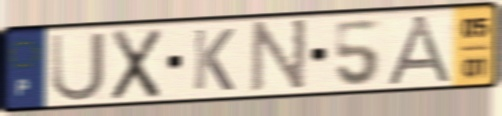5: (332, 16, 383, 88)
A: (383, 12, 459, 87)
K: (190, 26, 237, 93)
N: (247, 16, 311, 95)
U: (48, 29, 108, 104)
X: (108, 26, 165, 103)
